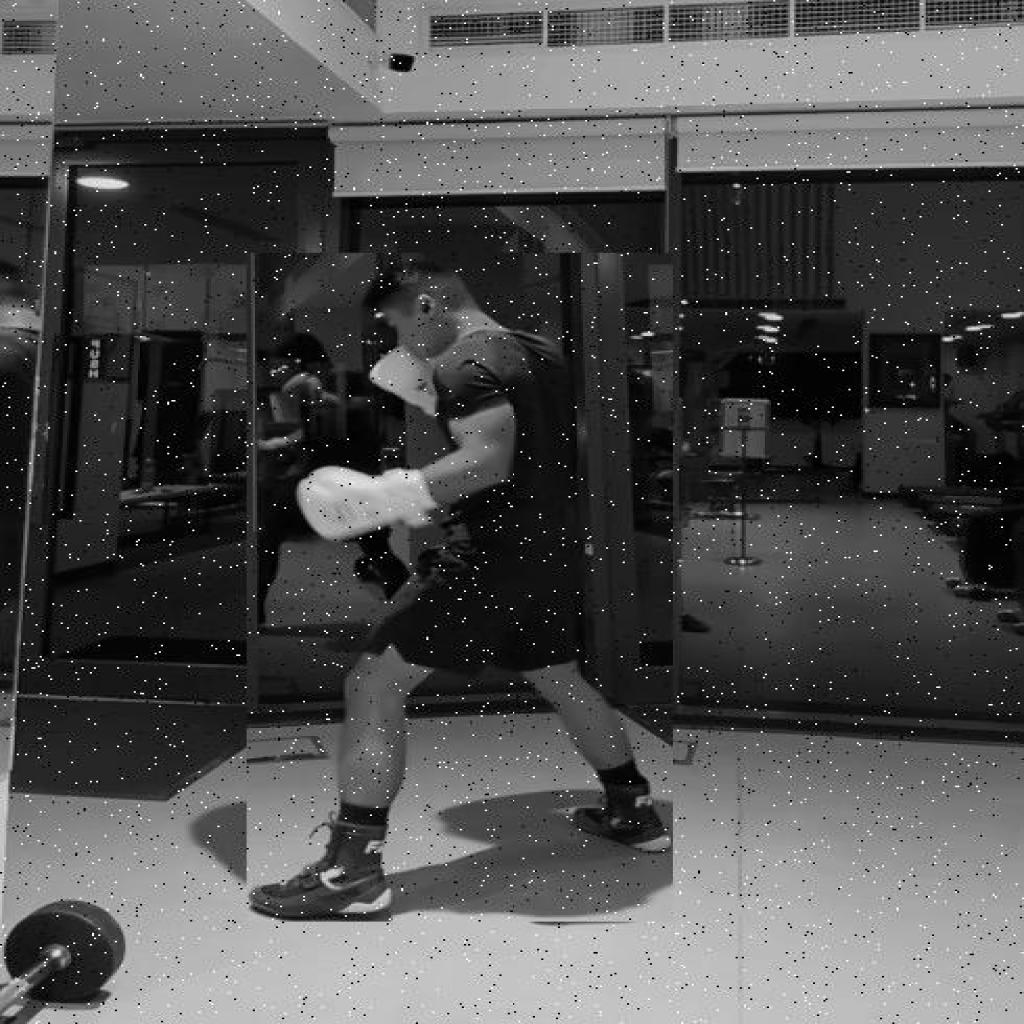uppercut: (247, 252, 674, 922)
